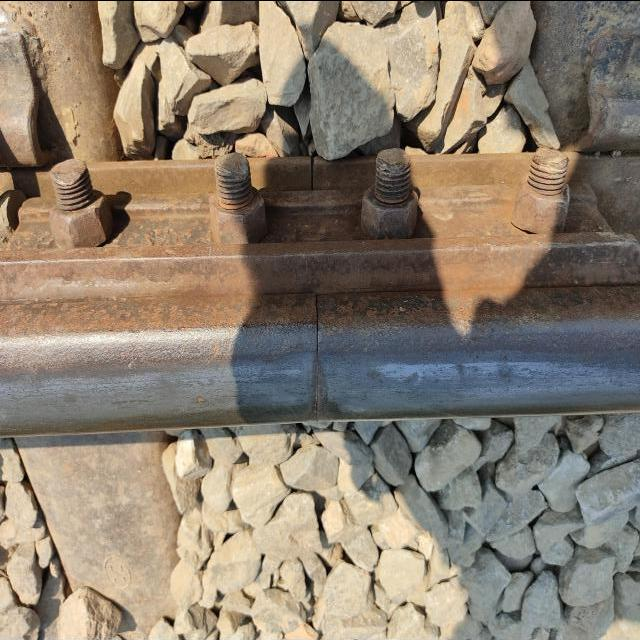broken_rail_medium: (118, 348, 133, 372), (194, 392, 206, 406), (211, 344, 219, 360), (501, 354, 509, 362)
